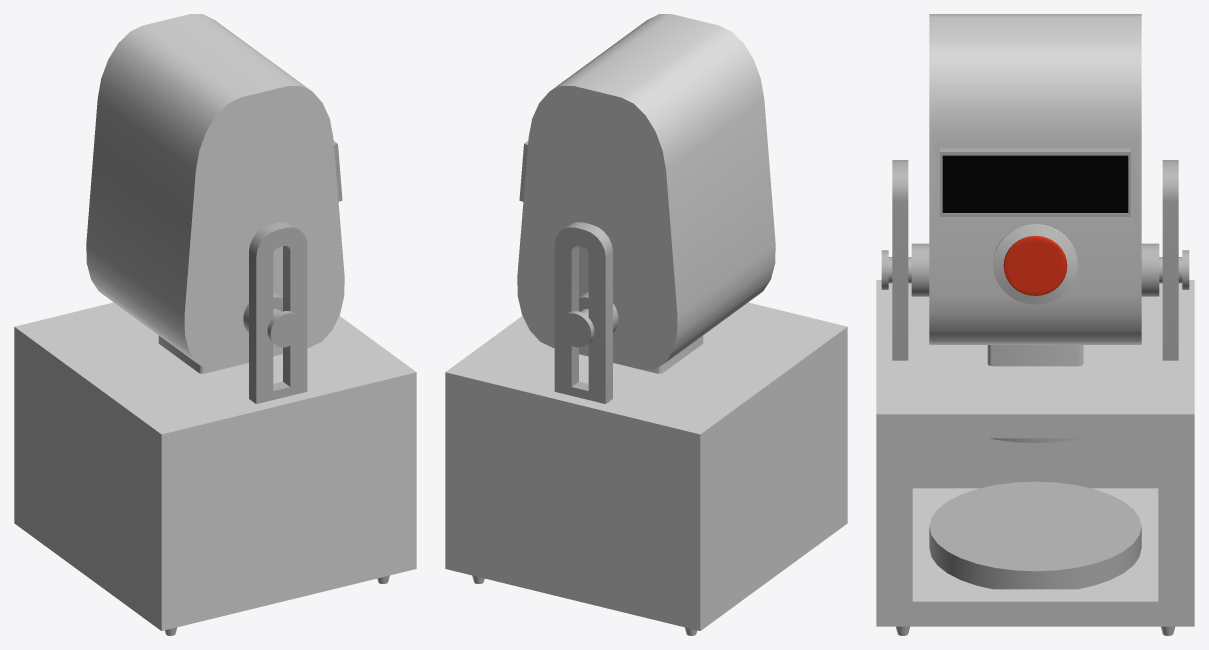
Rendered from X-ray_machine.gltf.
3 views of the same model, side by side, from view 1: azimuth 30°, elevation 25°; view 2: azimuth 150°, elevation 25°; view 3: azimuth 270°, elevation 25° (orthographic). The views are drawn at different scales.
Visible parts, largest first — view 1: Cube.002; view 2: Cube.002; view 3: Cube.002.
Part boxes in pixels (x1,y1,x2,y2): Cube.002: (14,14,416,635); Cube.002: (445,14,847,635); Cube.002: (876,14,1194,635).
Size of the model in its own units: 0.3 by 0.57 by 0.3.
